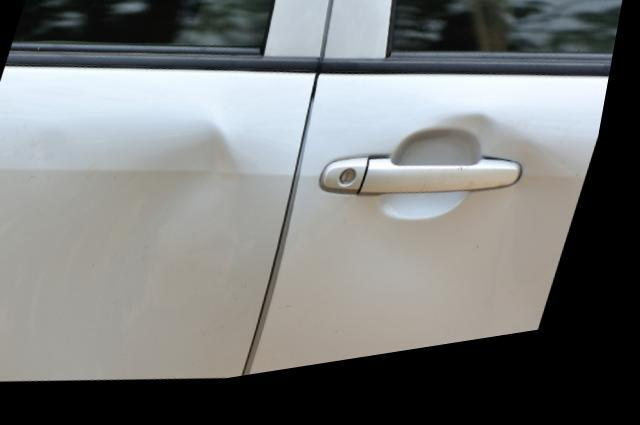dent: (35, 129, 241, 356), (445, 127, 594, 298)
